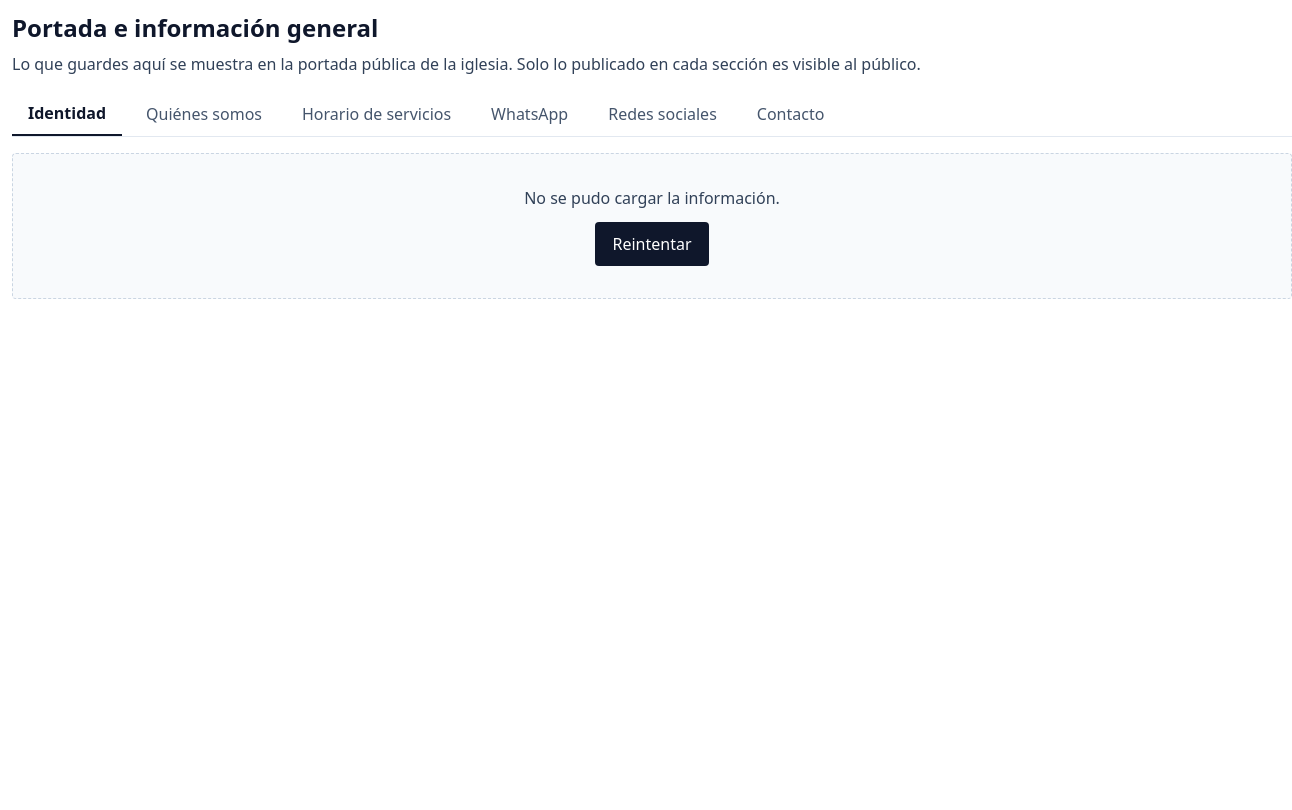
Scenario: InformationPage · estados › con error ofrece reintentar
This screenshot has width=1292, height=810.
Expected: the text "No se pudo cargar la información." is shown, [524,186,780,210]
What coordinates should you click on to do the following:
click the button "Reintentar"
I would click on:
 (652, 244)
Its box is [596,222,708,266].
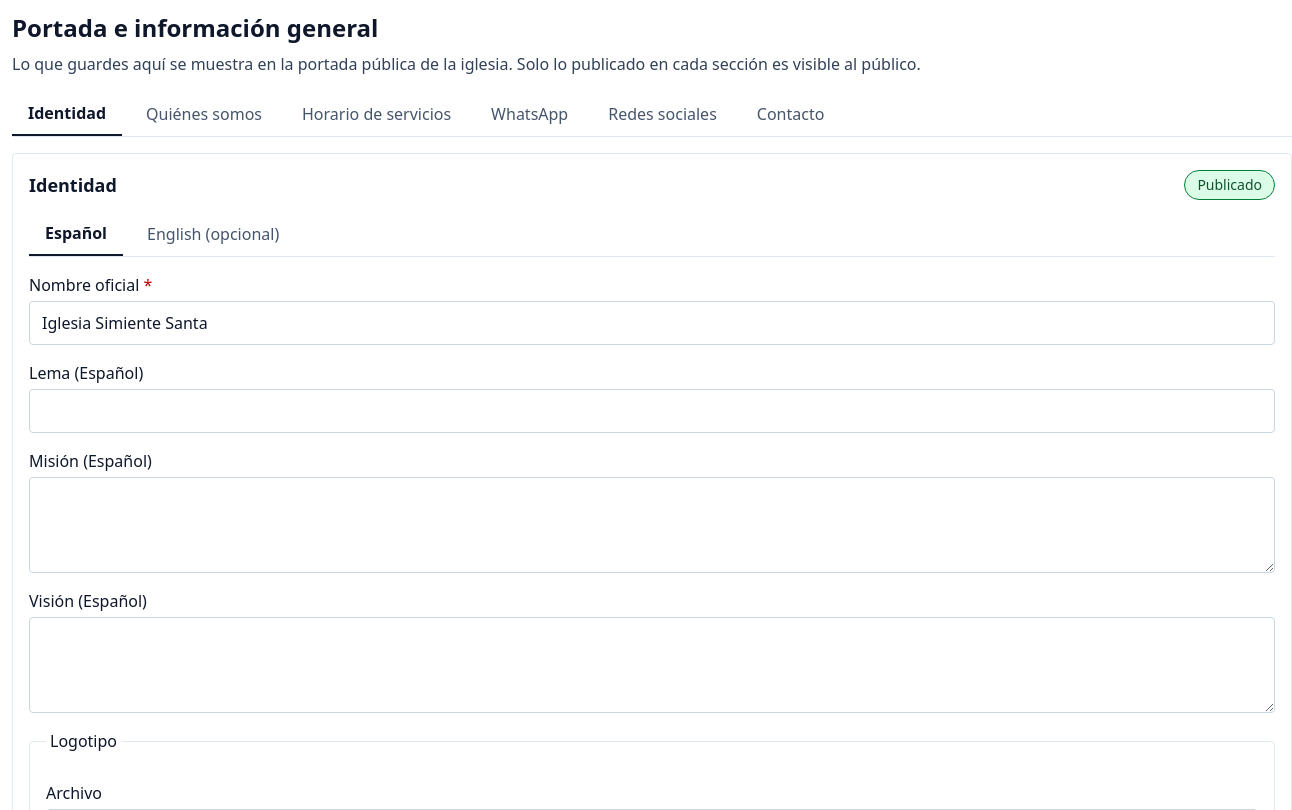
Expected: the field showing "Iglesia Simiente Santa" is shown, [29,301,1275,345]
